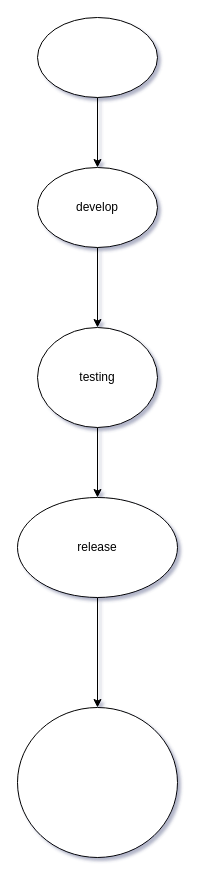
This 201x889 diagram has some shape labels left out. Each missing label, with the box of its shape:
deploy: (16, 706, 178, 858)
plan: (36, 16, 158, 98)
